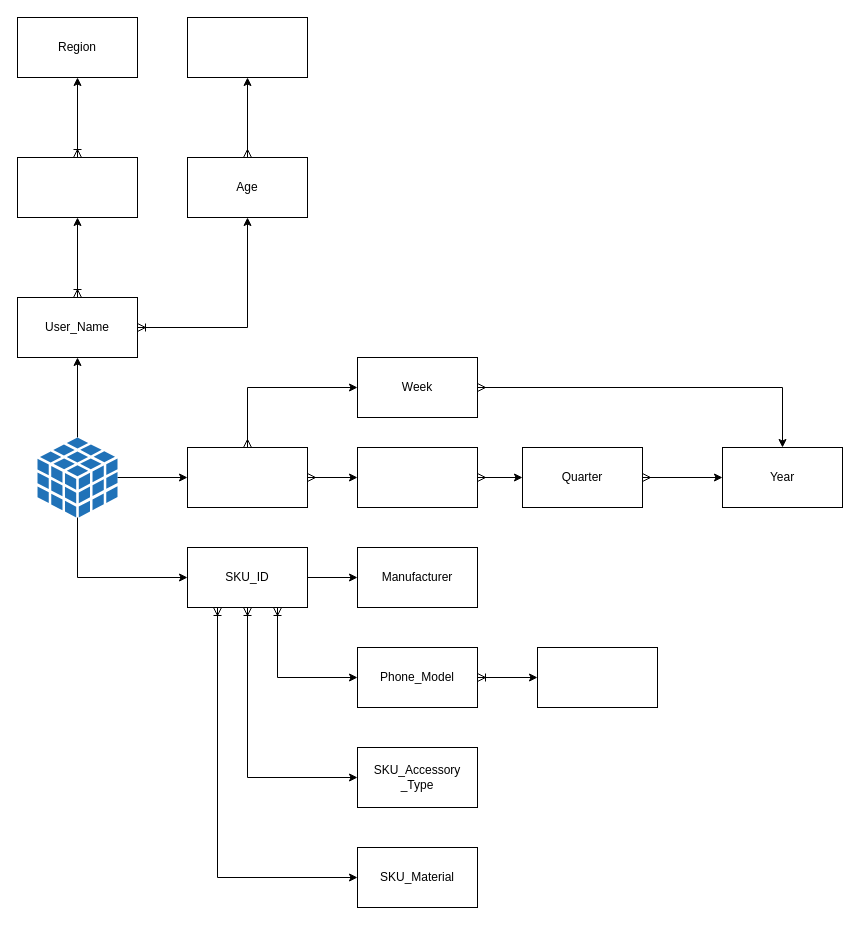
Image size: 860x925. Some labels were removed from this diagram. The shapes that lost their labels are listed below. From the top down, each one's box as (x1, y1, x2, y2) in pixels, then its label:
(186, 16, 308, 78): Age_Group
(16, 156, 138, 218): Country
(186, 446, 308, 508): Day
(356, 446, 478, 508): Month
(536, 646, 658, 708): Phone_Brand
